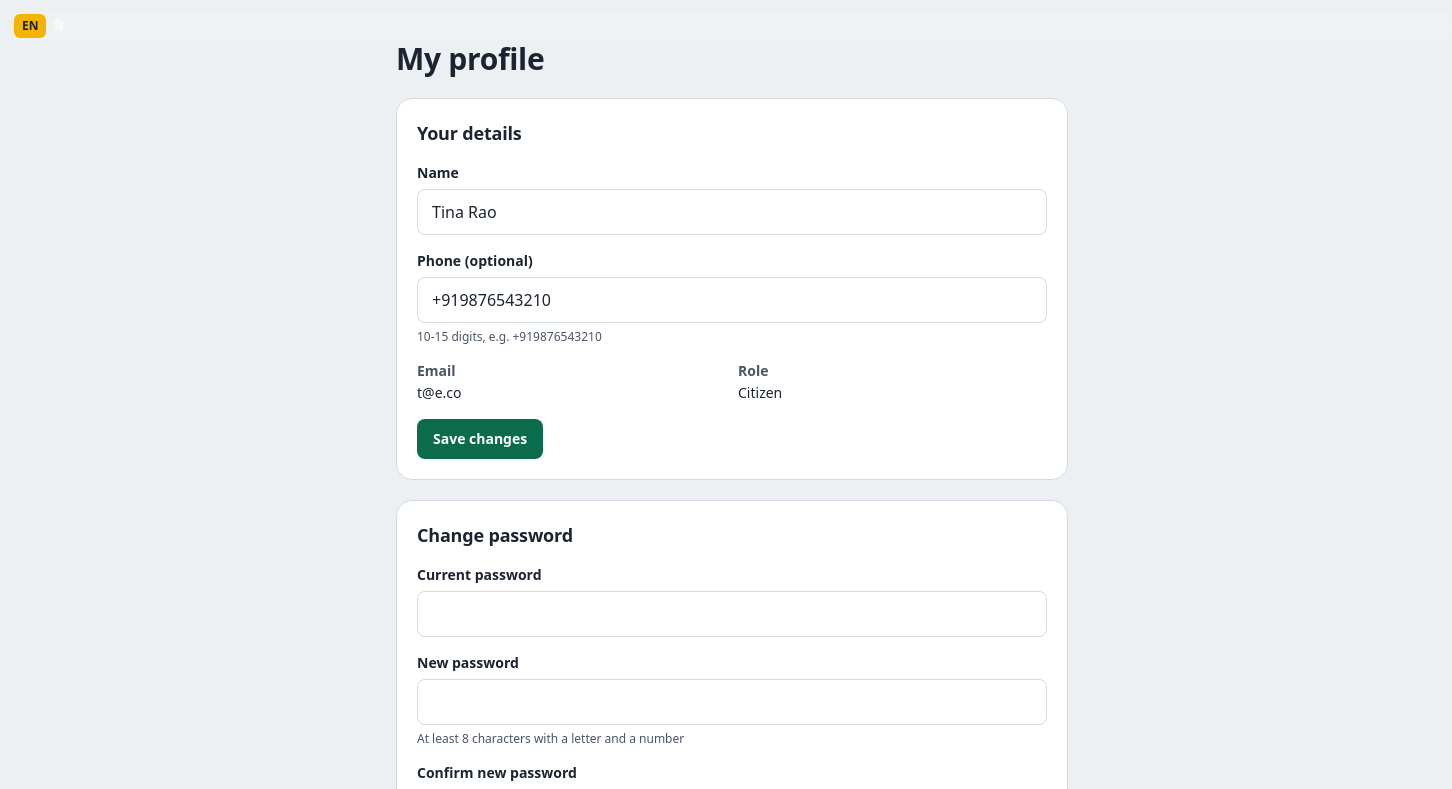
Scenario: profile page › saves the name
The width and height of the screenshot is (1452, 789).
Replace the text in the field labelled "Name" with "Asha Kumari" at (732,212), box [417,188,1047,234]
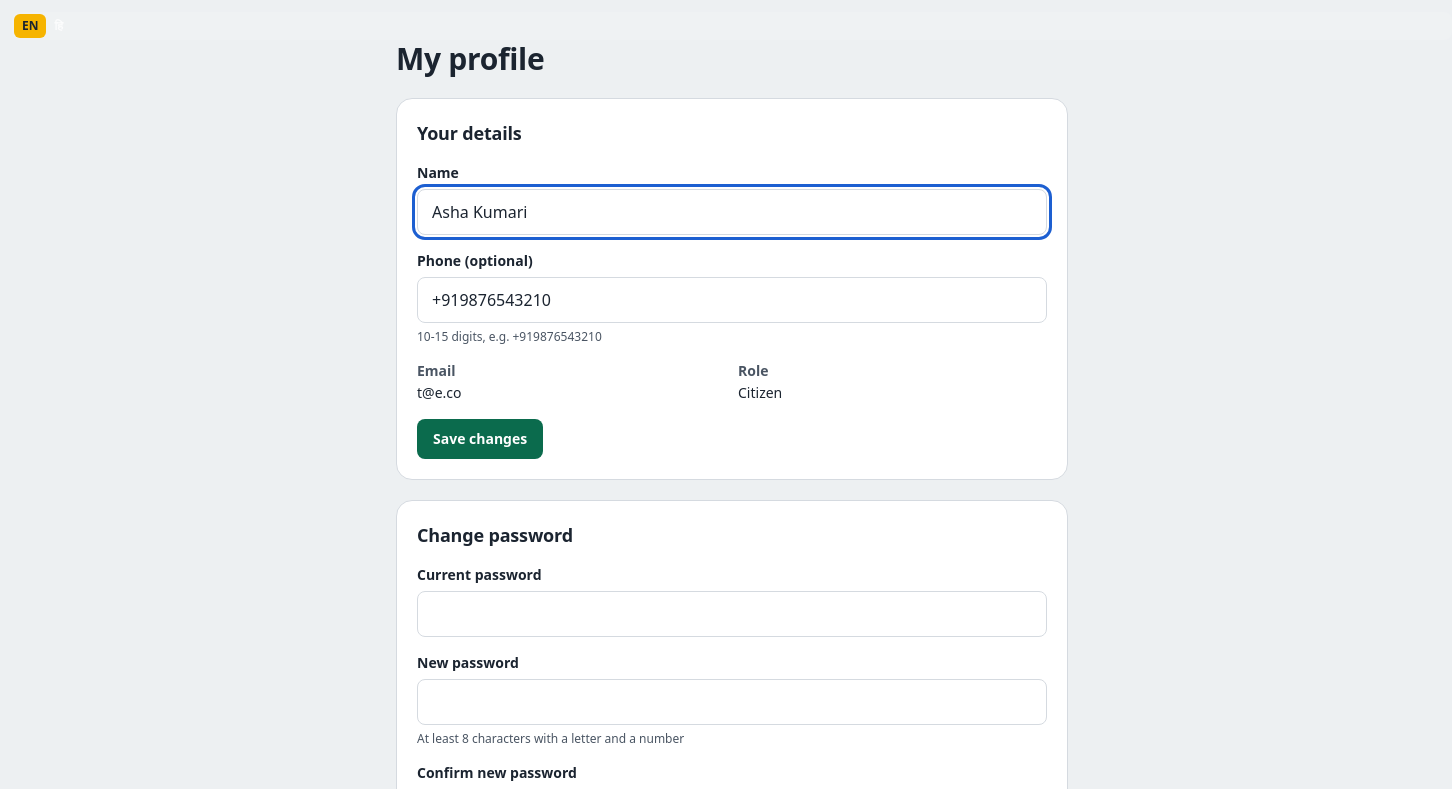
Click the button "Save changes" at (480,438), box [417,418,543,458]
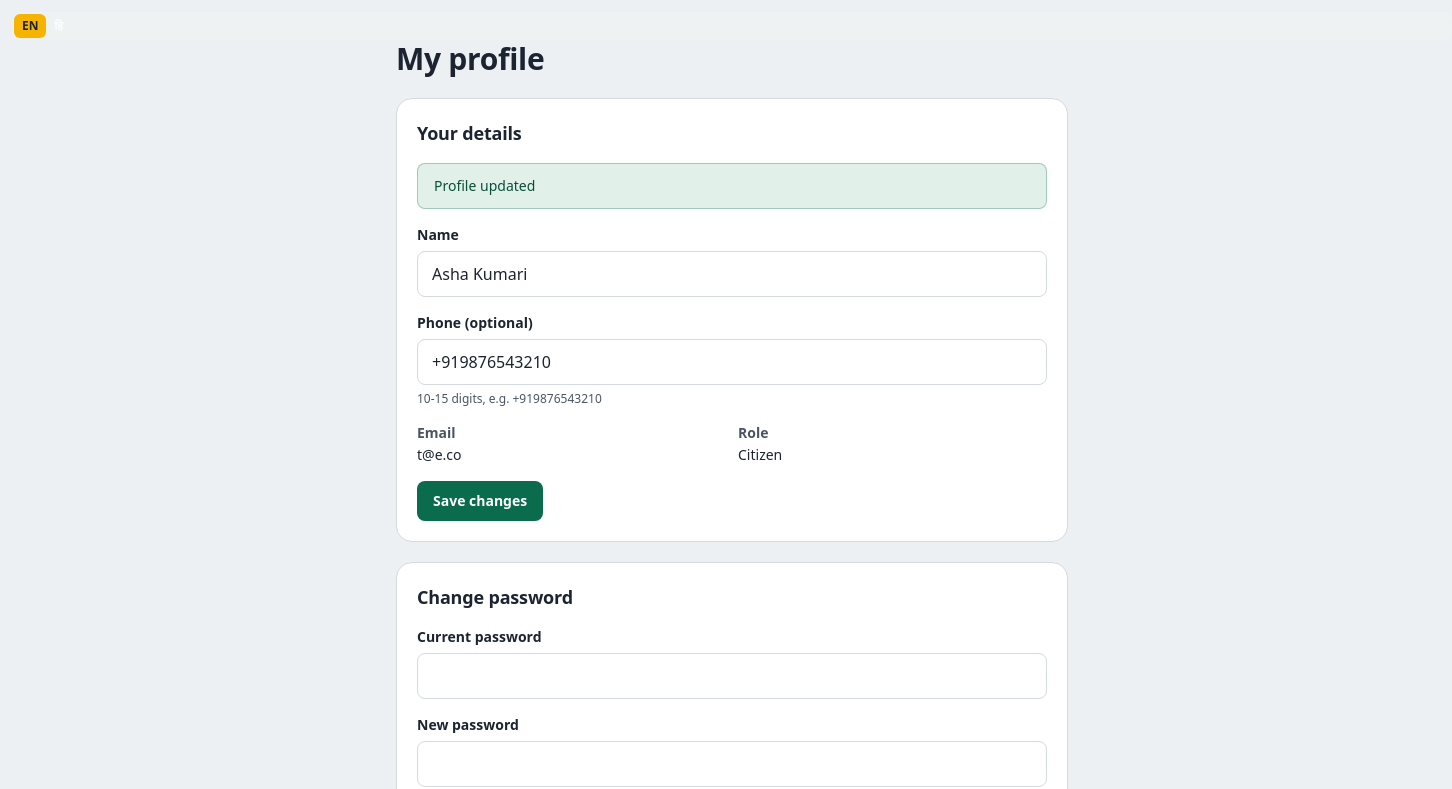
Now the text "Profile updated" is shown, box [417,162,1047,208]
